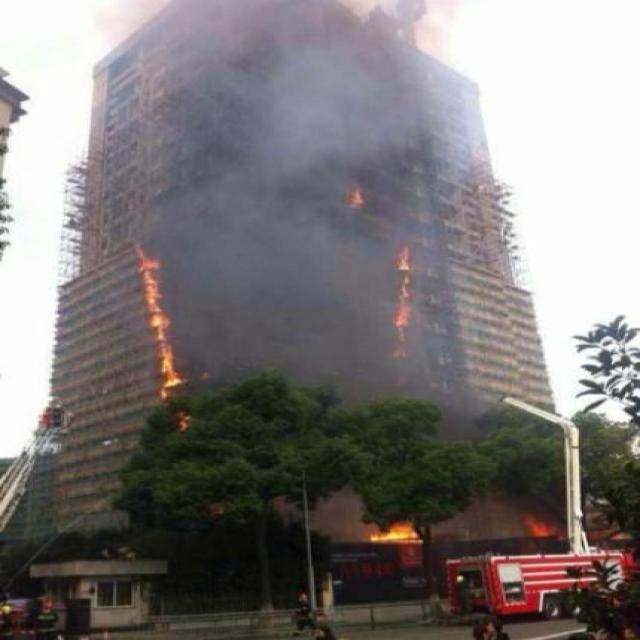fire: (126, 244, 188, 414), (385, 241, 417, 355), (369, 522, 424, 548), (341, 183, 363, 211)
smoke: (135, 0, 462, 388)
